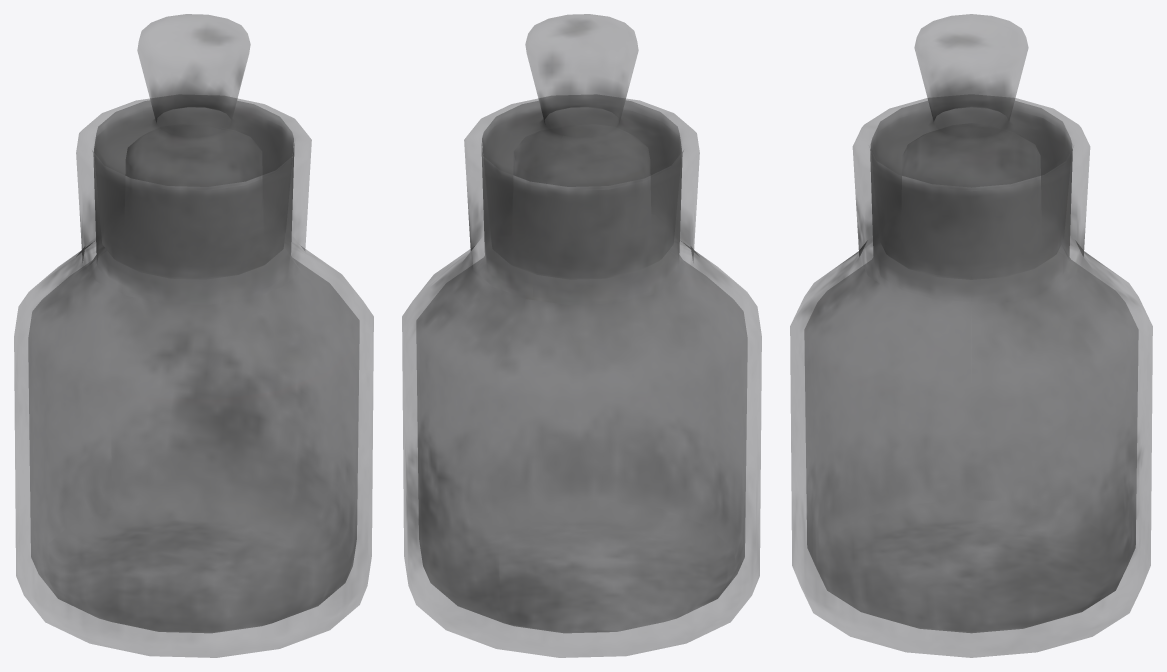
File: bottle_clear_a.glb
3 views of the same model, side by side, from view 1: azimuth 30°, elevation 25°; view 2: azimuth 150°, elevation 25°; view 3: azimuth 270°, elevation 25° (orthographic).
Parts seen in each view (by area): view 1: chemistry_set_bottle_clear_a.001, chemistry_set_bottle_clear_lid.001; view 2: chemistry_set_bottle_clear_a.001, chemistry_set_bottle_clear_lid.001; view 3: chemistry_set_bottle_clear_a.001, chemistry_set_bottle_clear_lid.001.
Part boxes in pixels (x1=…): chemistry_set_bottle_clear_a.001: x1=14, y1=96, x2=373, y2=657; chemistry_set_bottle_clear_lid.001: x1=94, y1=14, x2=293, y2=278; chemistry_set_bottle_clear_a.001: x1=402, y1=95, x2=761, y2=657; chemistry_set_bottle_clear_lid.001: x1=482, y1=14, x2=681, y2=277; chemistry_set_bottle_clear_a.001: x1=790, y1=98, x2=1152, y2=657; chemistry_set_bottle_clear_lid.001: x1=870, y1=14, x2=1072, y2=279.
Bounding box in the file's own units: 0.0496 × 0.0846 × 0.0496.
1 material, 1 textured.
